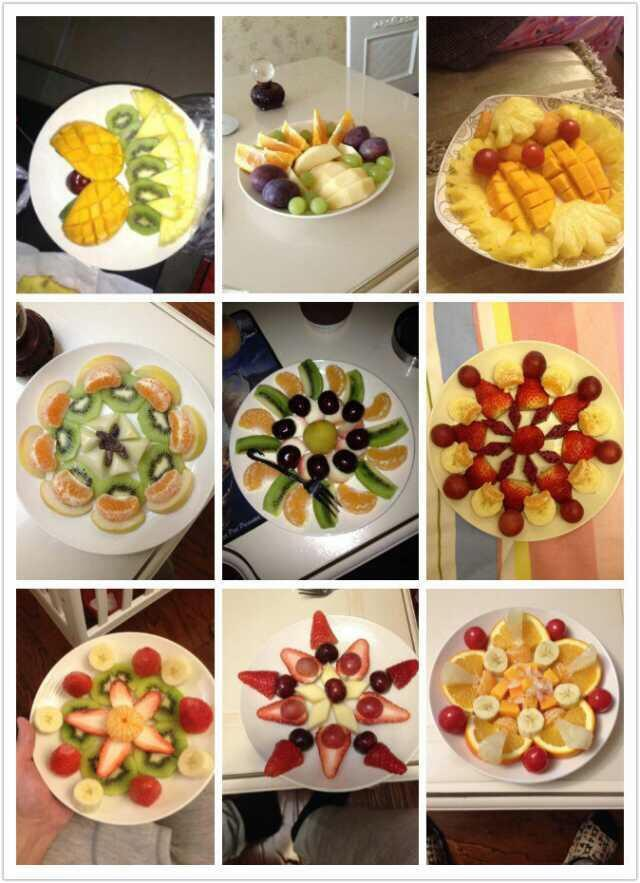apple: (259, 142, 392, 214), (303, 195, 327, 214)
